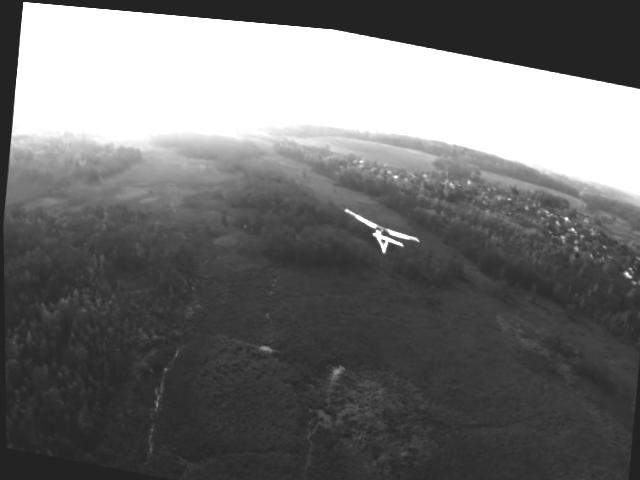hedef: (335, 193, 424, 262)
